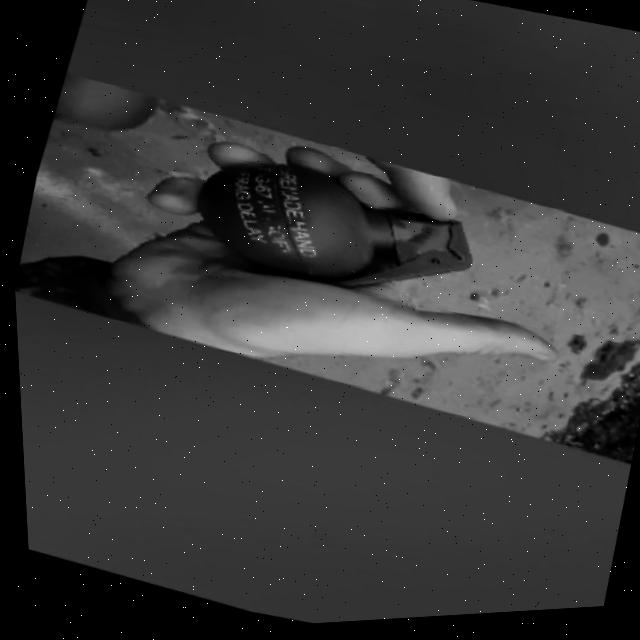grenade: (173, 135, 485, 348)
